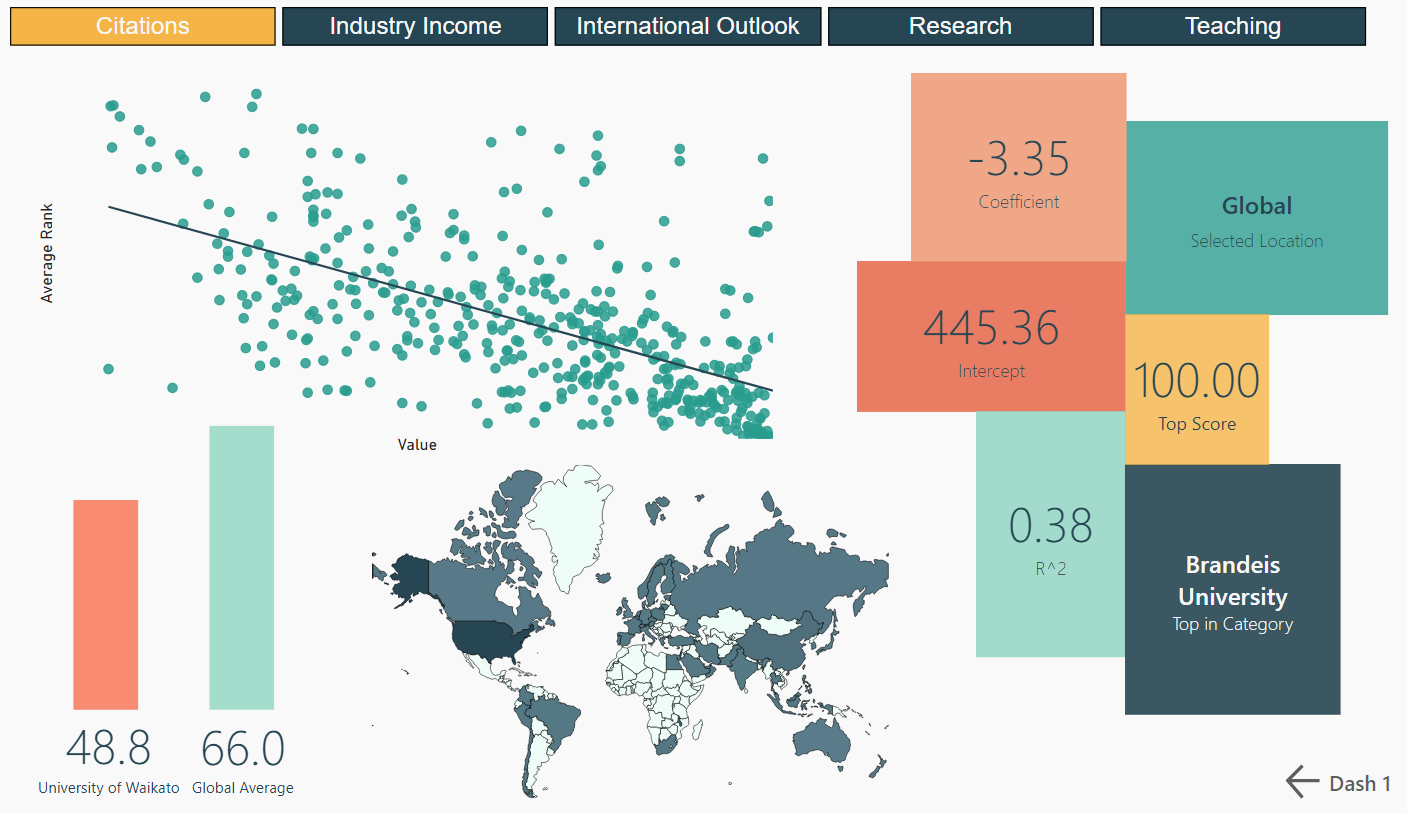

This screenshot's page, from the dashboard's own definition file:
{"tool":"powerbi","page":{"name":"Page 2","canvas":[1280,720],"ordinal":1},"visuals":[{"type":"clusteredColumnChart","fields":{"Y":["CWUR + QS + THE (2).Value"]},"box":[142.3,310.1,224,323.3],"z":0},{"type":"scatterChart","title":"Research vs Rank","fields":{"Category":["CWUR + QS + THE.University"],"Y":["CWUR + QS + THE.Average Rank"],"X":["CWUR + QS + THE (2).Value"],"Series":["CWUR + QS + THE (2).Attribute"]},"box":[68.1,48.6,657.5,357.9],"z":1000},{"type":"actionButton","box":[1168.3,670.3,100.9,40.4],"z":2000},{"type":"ChicletSlicer1448559807354","fields":{"Category":["CWUR + QS + THE (2).Attribute"]},"box":[40.5,0,1210.9,56],"z":3000},{"type":"card","title":"UoW Average Rank","fields":{"Values":["CWUR + QS + THE (2).Value"]},"box":[158.9,613.5,189.8,107],"z":4000},{"type":"card","title":"UoW Average Rank","fields":{"Values":["CWUR + QS + THE (2).Value"]},"box":[40.7,614.6,189.8,103.7],"z":5000},{"type":"clusteredColumnChart","fields":{"Y":["CWUR + QS + THE (2).Value"]},"box":[23.1,310.1,224,323.3],"z":6000},{"type":"choropleth4C77906D867C4C09AFE83BA5E2AA106A","fields":{"category":["CWUR + QS + THE (2).2020 CWUR.Location"],"measure":["CWUR + QS + THE (2).University"]},"box":[254,406.4,682.9,303.9],"z":7000},{"type":"card","title":"UoW Average Rank","fields":{"Values":["2020 CWUR.Default Location"]},"box":[1032,108,231.5,171.2],"z":8000},{"type":"card","title":"UoW Average Rank","fields":{"Values":["Sheet1.Intercept"]},"box":[794.7,231.5,237.3,133.3],"z":9000},{"type":"card","title":"UoW Average Rank","fields":{"Values":["Sheet1.R^2"]},"box":[899.7,363.8,132.3,216.9],"z":10000},{"type":"card","title":"UoW Average Rank","fields":{"Values":["CWUR + QS + THE (2).University"]},"box":[1031,410.5,189.7,220.8],"z":11000},{"type":"card","title":"UoW Average Rank","fields":{"Values":["Sheet1.Coefficient"]},"box":[842.3,66.1,189.7,166.3],"z":12000},{"type":"card","title":"UoW Average Rank","fields":{"Values":["CWUR + QS + THE (2).Value"]},"box":[1031,278.2,127.4,133.3],"z":13000}]}

Visuals, with their boxes on the page's 1280x720 design canvas (x1, y1, x2, y2). These are canvas units, not pixel positions in the 1407x813 screenshot, which may show the page scaled, cropped or inside an application window:
clusteredColumnChart - CWUR + QS + THE (2).Value: crop(142, 310, 366, 633)
"Research vs Rank" scatterChart: crop(68, 49, 726, 406)
actionButton: crop(1168, 670, 1269, 711)
ChicletSlicer1448559807354 - CWUR + QS + THE (2).Attribute: crop(40, 0, 1251, 56)
"UoW Average Rank" card: crop(159, 614, 349, 720)
"UoW Average Rank" card: crop(41, 615, 230, 718)
clusteredColumnChart - CWUR + QS + THE (2).Value: crop(23, 310, 247, 633)
choropleth4C77906D867C4C09AFE83BA5E2AA106A - CWUR + QS + THE (2).2020 CWUR.Location x CWUR + QS + THE (2).University: crop(254, 406, 937, 710)
"UoW Average Rank" card: crop(1032, 108, 1264, 279)
"UoW Average Rank" card: crop(795, 232, 1032, 365)
"UoW Average Rank" card: crop(900, 364, 1032, 581)
"UoW Average Rank" card: crop(1031, 410, 1221, 631)
"UoW Average Rank" card: crop(842, 66, 1032, 232)
"UoW Average Rank" card: crop(1031, 278, 1158, 412)
